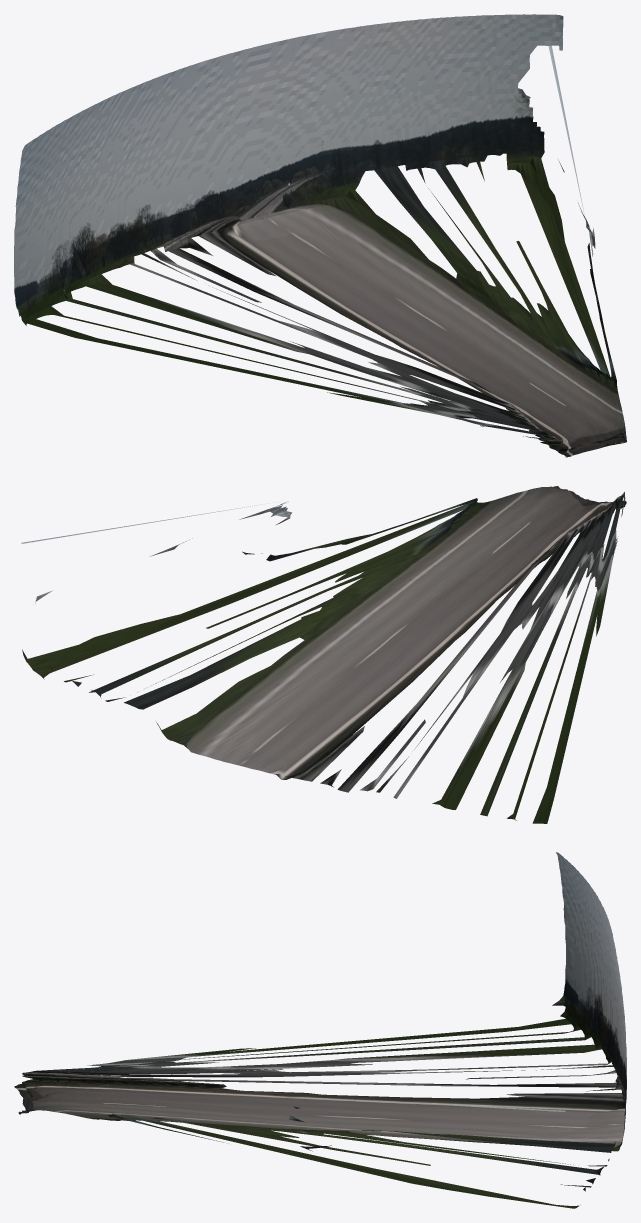
The picture shows the model from 3 angles, top to bottom: view 1: azimuth 30°, elevation 25°; view 2: azimuth 150°, elevation 25°; view 3: azimuth 270°, elevation 25°; orthographic projection. The views are drawn at different scales.
Visible parts, largest first — view 1: defaultobject; view 2: defaultobject; view 3: defaultobject.
Boxes of the visible parts, x1,y1,x2,y2 form: defaultobject: (14,14,626,457); defaultobject: (21,486,626,823); defaultobject: (14,852,626,1208).
Bounding box in the file's own units: 41 × 13.99 × 44.79.
1 material, 1 textured.
